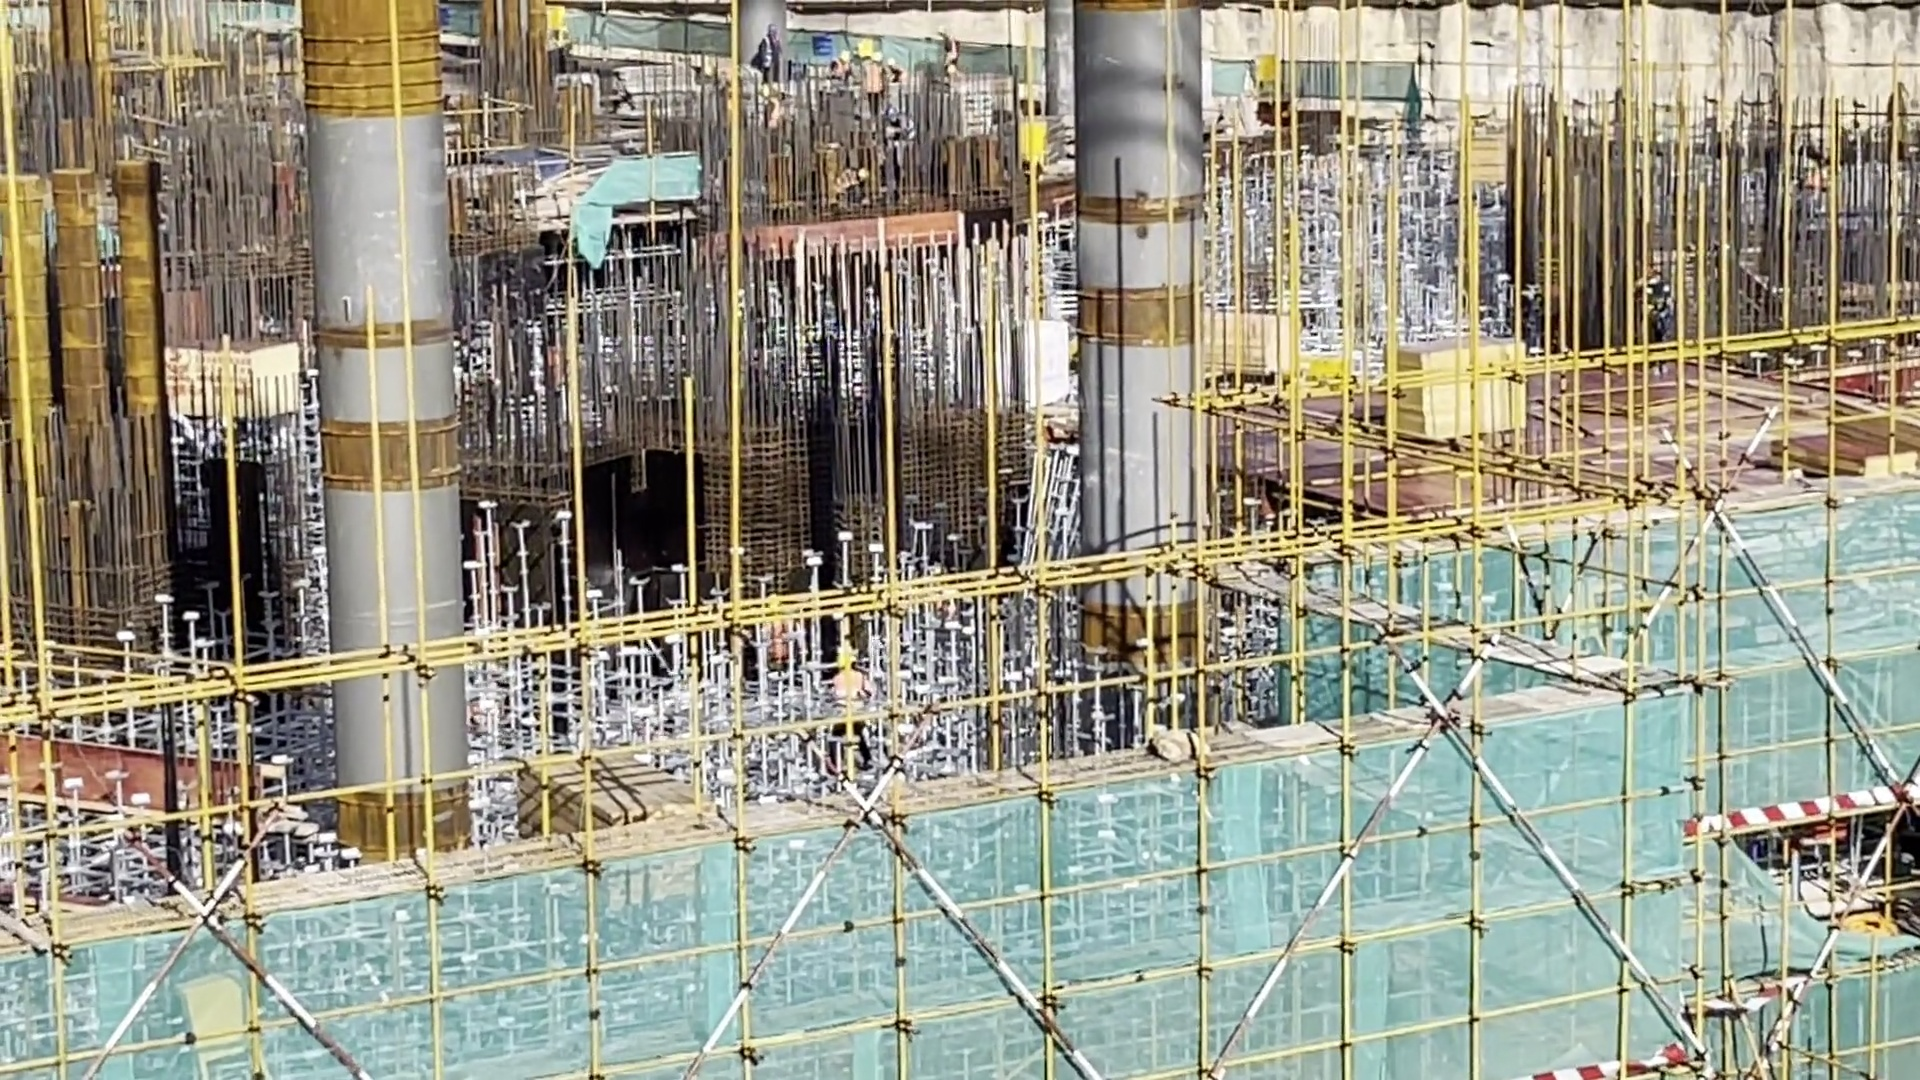ebox: (163, 969, 273, 1071), (1016, 113, 1055, 172), (1252, 52, 1282, 100), (545, 3, 566, 33)
person: (932, 14, 960, 69), (861, 52, 886, 110), (763, 85, 787, 129), (826, 40, 844, 81)
